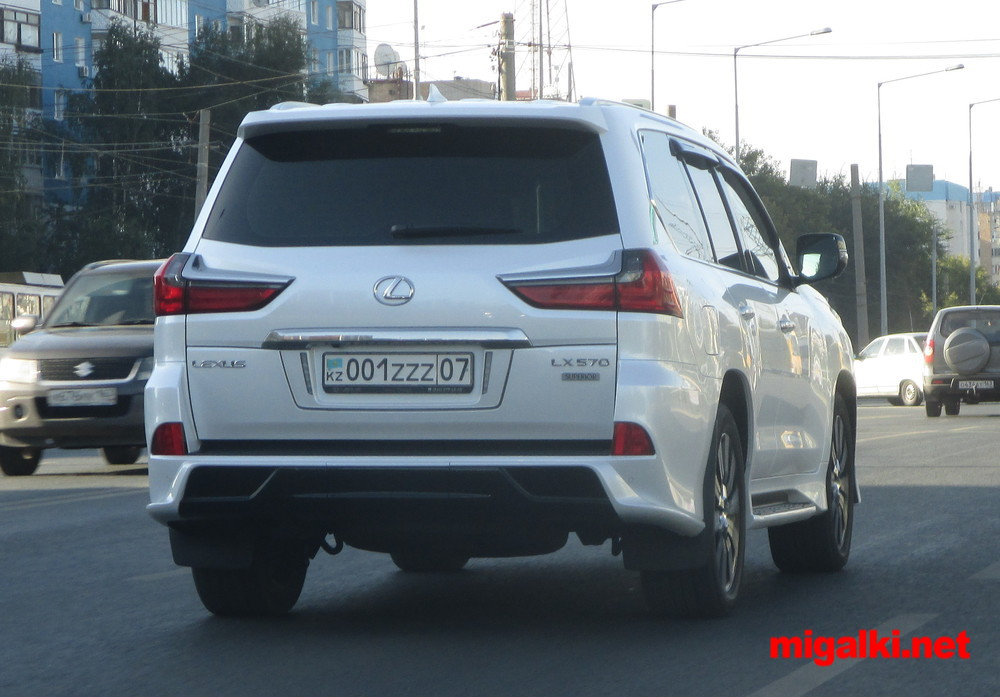license_plate: (323, 350, 476, 390)
